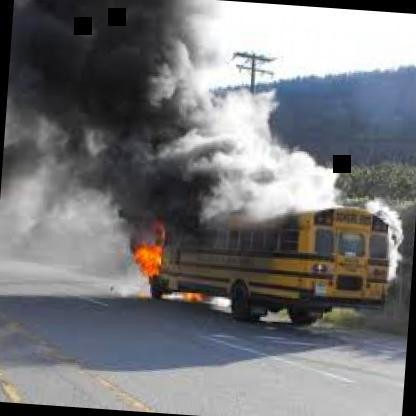fire: (20, 2, 202, 116), (76, 124, 252, 198), (106, 198, 216, 309)
